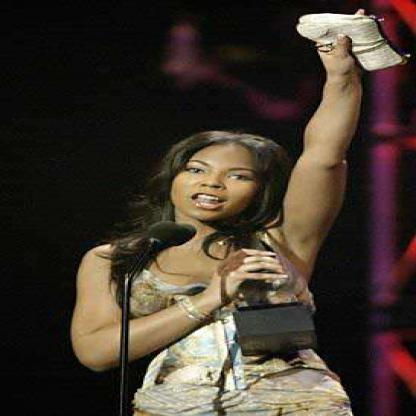face: (170, 134, 265, 223)
